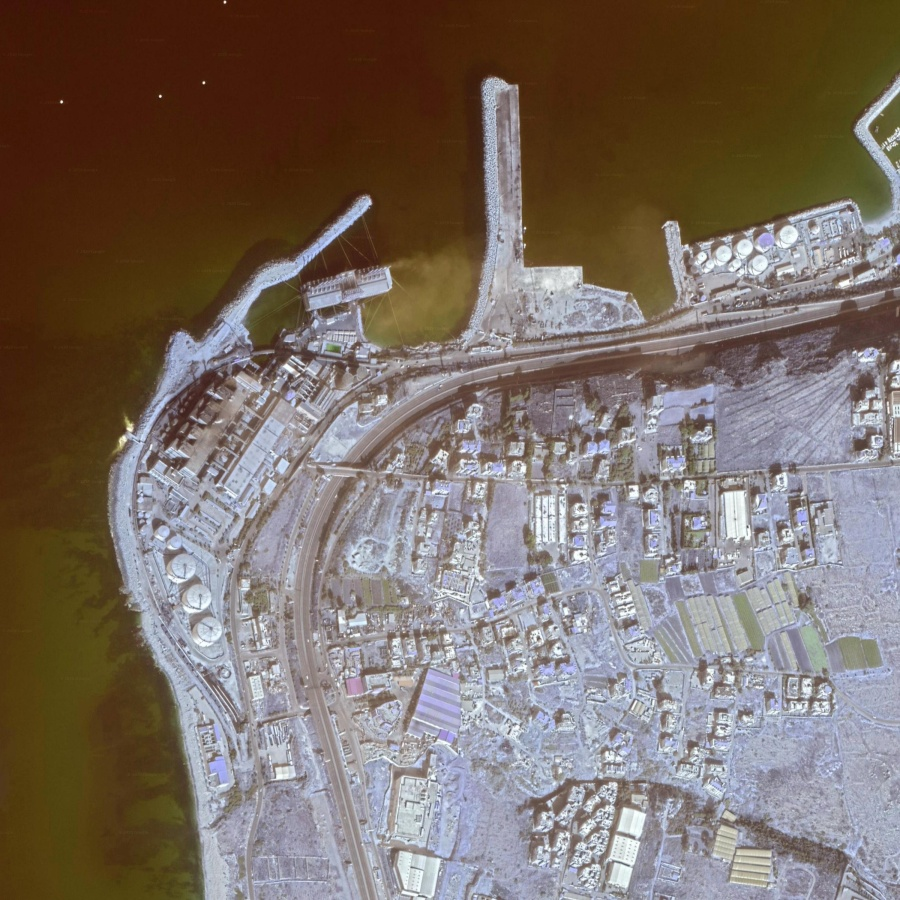PowerPlant: (100, 253, 396, 651)
